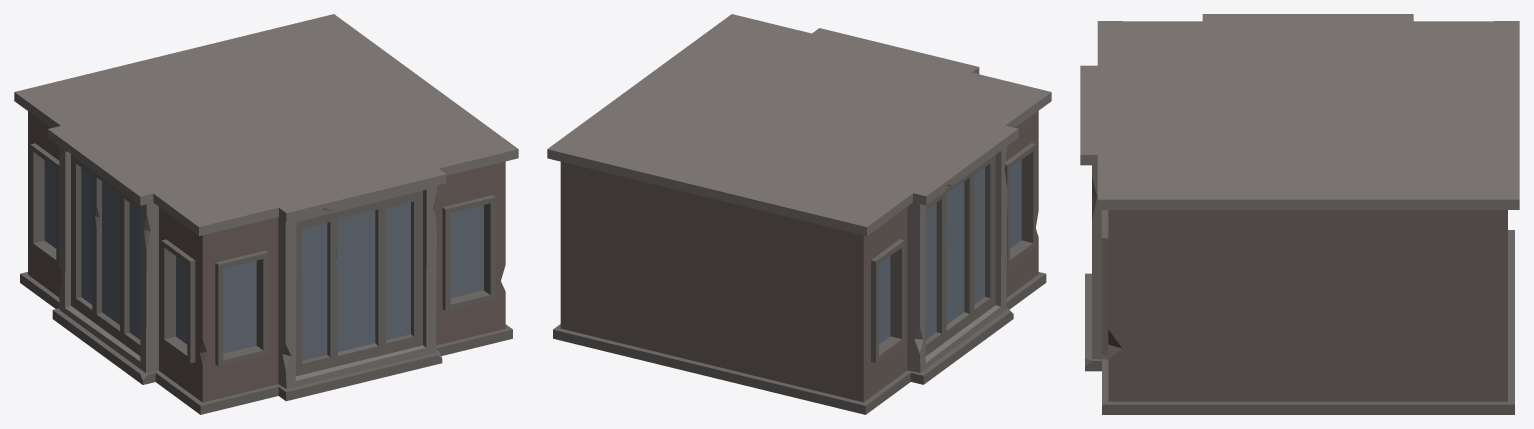
The model's file is house2.fbx.
3 views of the same model, side by side, from view 1: azimuth 30°, elevation 25°; view 2: azimuth 150°, elevation 25°; view 3: azimuth 270°, elevation 25° (orthographic). The views are drawn at different scales.
Visible parts, largest first — view 1: SM_Bld_Apartment_Corner_03; view 2: SM_Bld_Apartment_Corner_03; view 3: SM_Bld_Apartment_Corner_03.
Part boxes in pixels (x1,y1,x2,y2): SM_Bld_Apartment_Corner_03: (14,14,518,414); SM_Bld_Apartment_Corner_03: (547,14,1051,414); SM_Bld_Apartment_Corner_03: (1080,14,1519,414).
Size of the model in its own units: 0.0549 by 0.03 by 0.055.
1 material, 1 textured.
